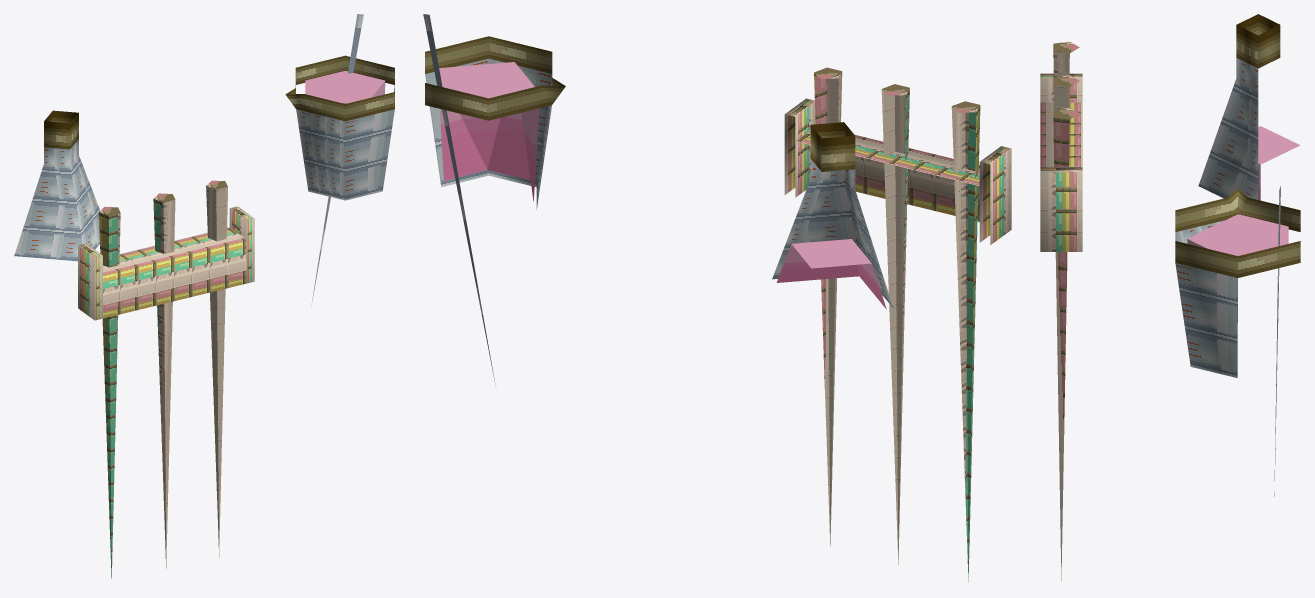
The model's file is 1082k_komono00.gltf.
3 renders of one model, left to right at view 1: azimuth 30°, elevation 25°; view 2: azimuth 150°, elevation 25°; view 3: azimuth 270°, elevation 25°, orthographic. The views are drawn at different scales.
Visible parts, largest first — view 1: 1082k_komono00; view 2: 1082k_komono00; view 3: 1082k_komono00.
Part boxes in pixels (left/top/right/bottom): 1082k_komono00: left=14, top=14, right=394, bottom=578; 1082k_komono00: left=423, top=14, right=1011, bottom=582; 1082k_komono00: left=1040, top=14, right=1300, bottom=580.
Size of the model in its own units: 0.3506 by 0.3767 by 0.1653.
4 materials, 4 textured.
